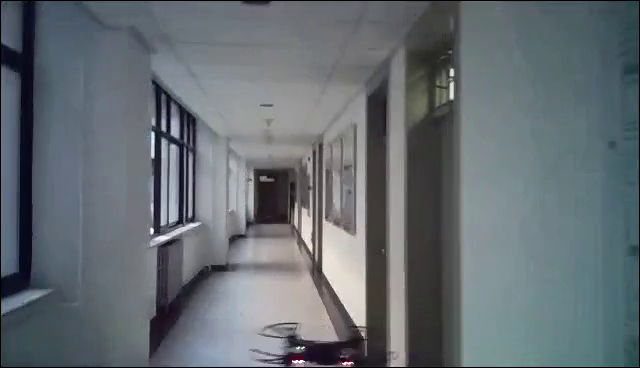drone: (246, 321, 399, 367)
